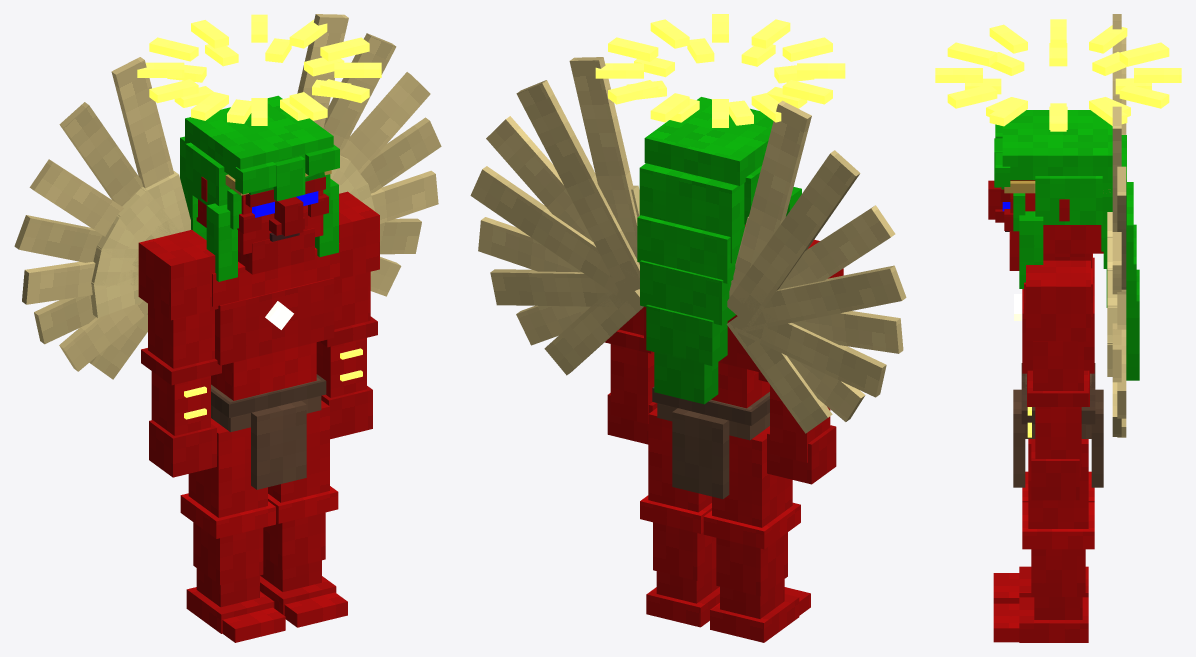
Rendered from angel_s1_evo2.glb.
The picture shows the model from 3 angles, left to right: view 1: azimuth 30°, elevation 25°; view 2: azimuth 150°, elevation 25°; view 3: azimuth 270°, elevation 25°; orthographic projection. The views are drawn at different scales.
Visible parts, largest first — view 1: Torso, Head, ArmR, LegR, LegL, ArmL; view 2: Torso, Head, LegR, LegL, ArmL, ArmR; view 3: Head, ArmL, LegL, Torso, LegR.
Part boxes in pixels (box(x1,y1,x2,y2)): Torso: box(14, 14, 441, 489); Head: box(137, 14, 381, 281); ArmR: box(138, 229, 221, 477); LegR: box(180, 418, 285, 642); LegL: box(260, 400, 347, 627); ArmL: box(316, 191, 379, 439); Torso: box(470, 57, 906, 499); Head: box(595, 14, 845, 404); LegR: box(703, 426, 810, 642); LegL: box(640, 408, 719, 627); ArmL: box(604, 307, 657, 444); ArmR: box(758, 239, 843, 484); Head: box(935, 19, 1181, 380); ArmL: box(1026, 260, 1090, 500); LegL: box(993, 439, 1094, 642); Torso: box(1013, 14, 1126, 487); LegR: box(993, 471, 1094, 603).
Size of the model in its own units: 1.63 by 2.02 by 0.8184.
Materials: 28 (28 with a texture image).
